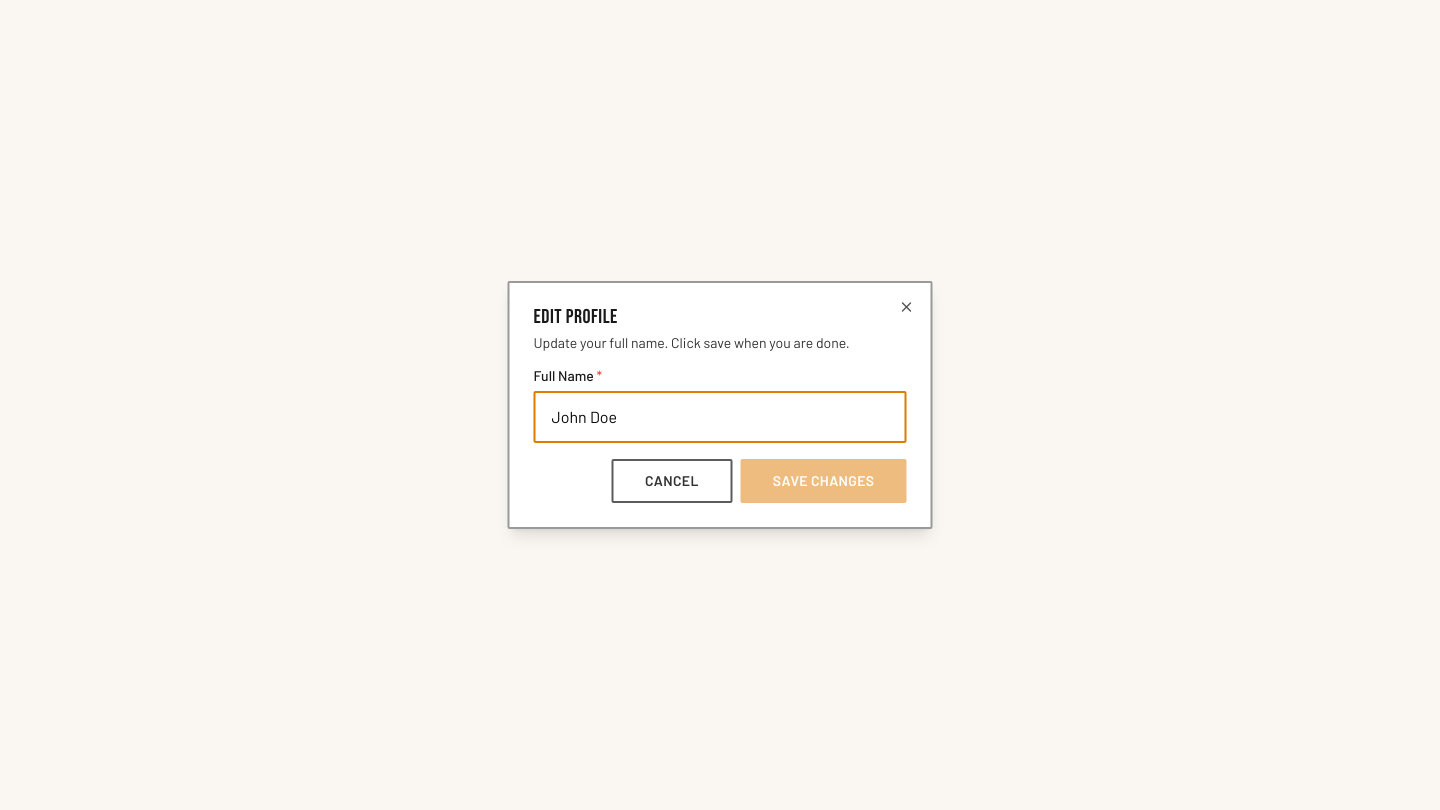
Test: ProfileEditor › Validation › should enable save button when form is dirty and valid
Type " Updated" into the field labelled "Full Name *".
click(720, 417); type(" Updated")  # box [534,391,906,443]
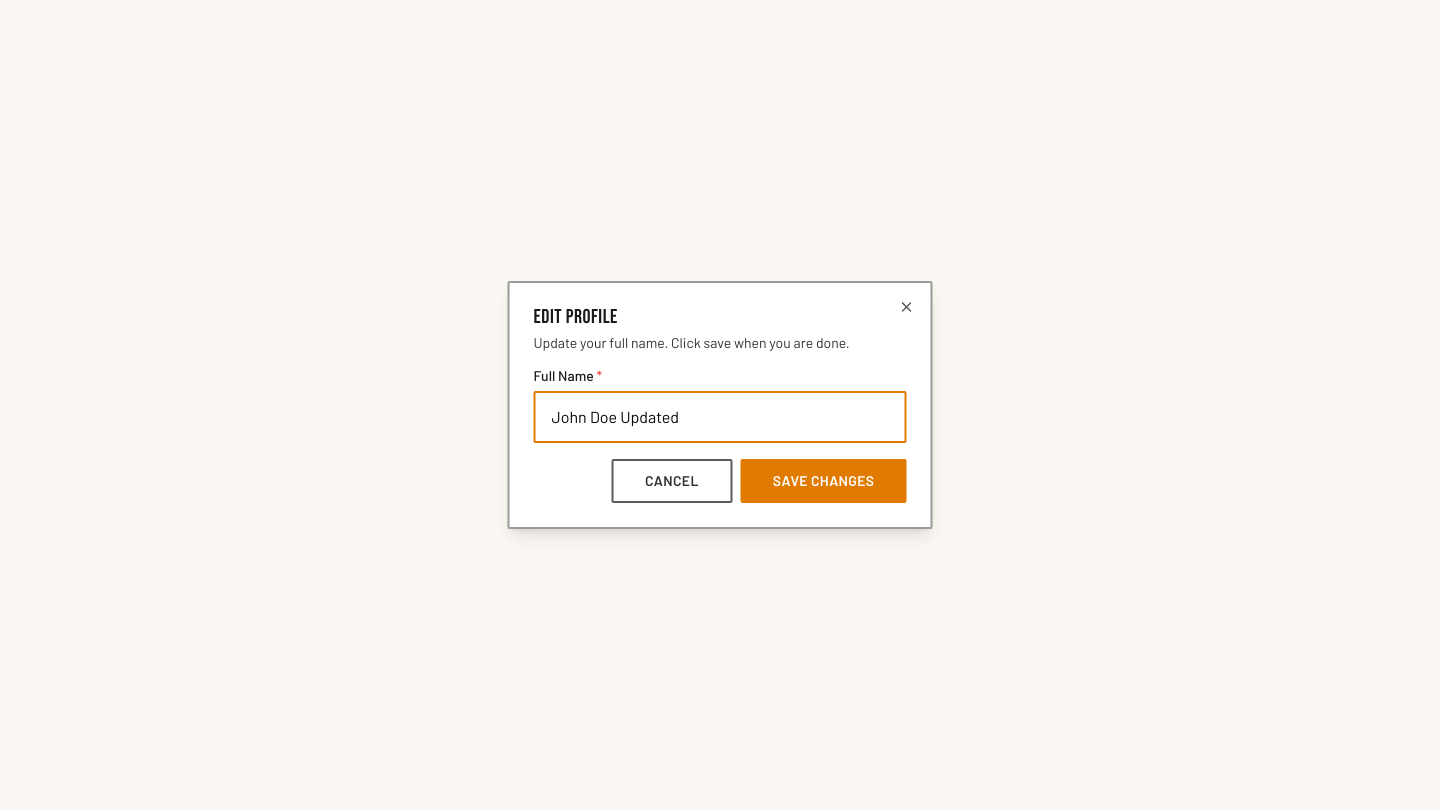
expect the button "Save changes" is enabled: met, box [741,459,906,503]
